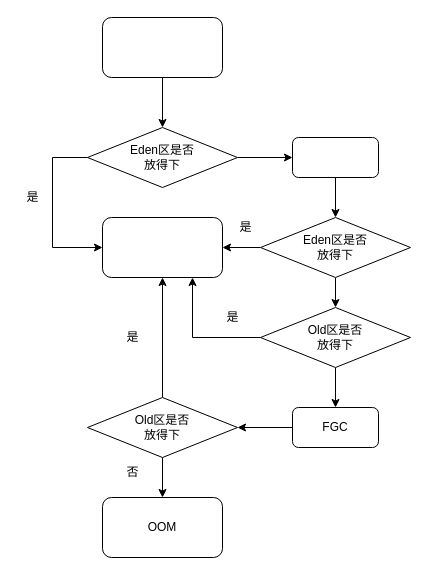
Image size: 428x575. Some labels were removed from this diagram. The box of each missing label's shape, as (x1, y1, x2, y2) in pixels:
YGC: (292, 136, 378, 178)
分配对象内存: (102, 216, 222, 278)
新对象申请空间: (102, 16, 222, 78)
